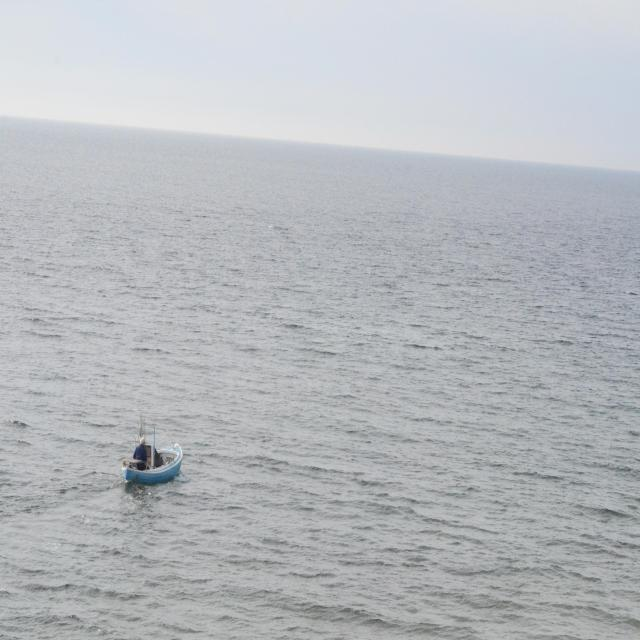ship2: (122, 417, 184, 489)
